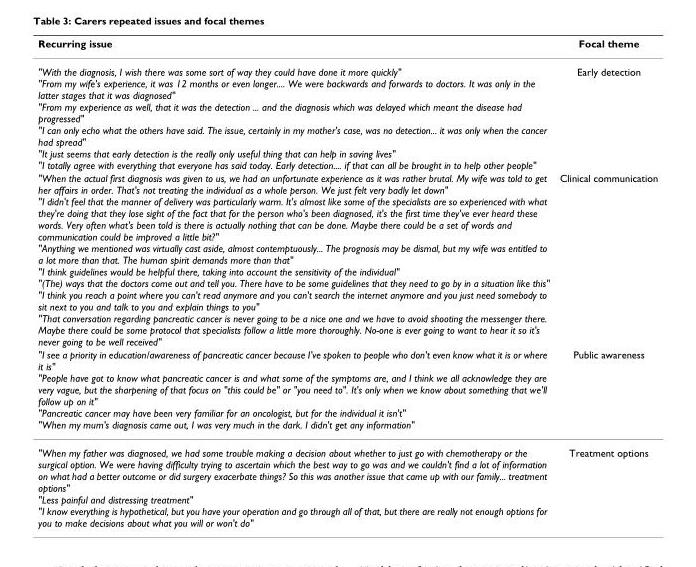table: (37, 36, 657, 528)
table column: (37, 36, 553, 528), (553, 36, 657, 528)
table column header: (37, 36, 657, 57)
table row: (37, 171, 657, 347), (37, 57, 657, 171), (37, 347, 657, 438), (37, 438, 657, 528), (37, 36, 657, 57)
